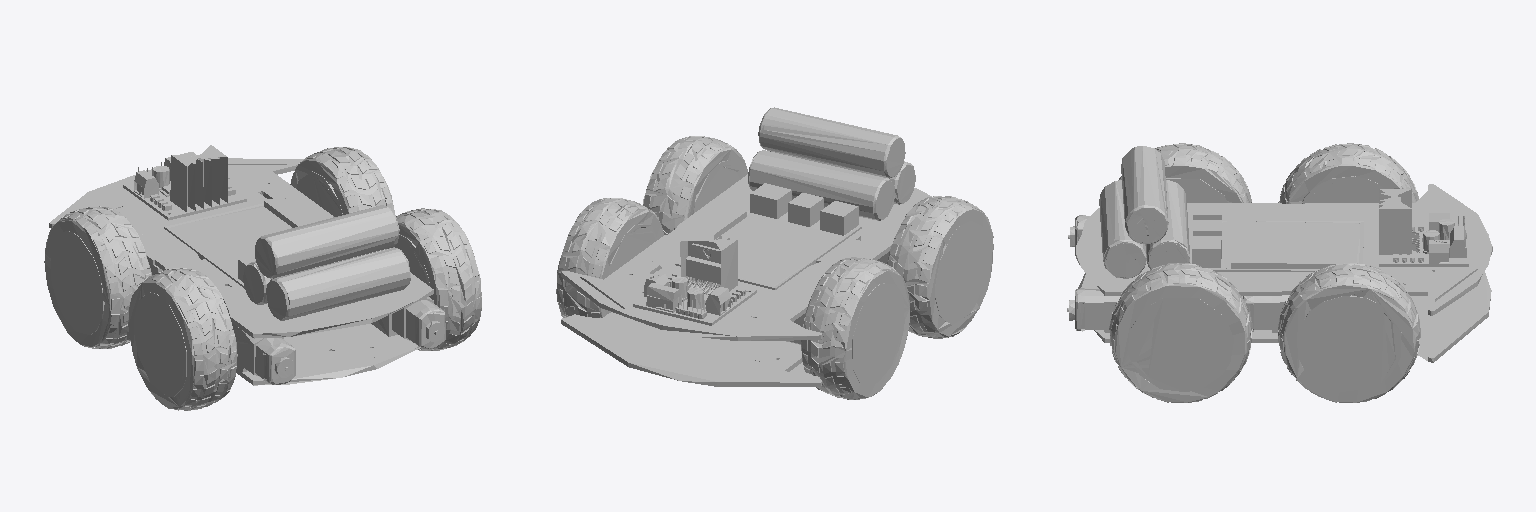
File: all-minimal.obj
3 views of the same model, side by side, from view 1: azimuth 30°, elevation 25°; view 2: azimuth 150°, elevation 25°; view 3: azimuth 270°, elevation 25° (orthographic).
Visible parts, largest first — view 1: ARTURO_-_raspberry-1; view 2: ARTURO_-_raspberry-1; view 3: ARTURO_-_raspberry-1.
Boxes of the visible parts, <box> form: ARTURO_-_raspberry-1: <box>44,145,481,410</box>; ARTURO_-_raspberry-1: <box>556,107,993,399</box>; ARTURO_-_raspberry-1: <box>1067,143,1492,402</box>.
Bounding box in the file's own units: 161 × 87.43 × 204.